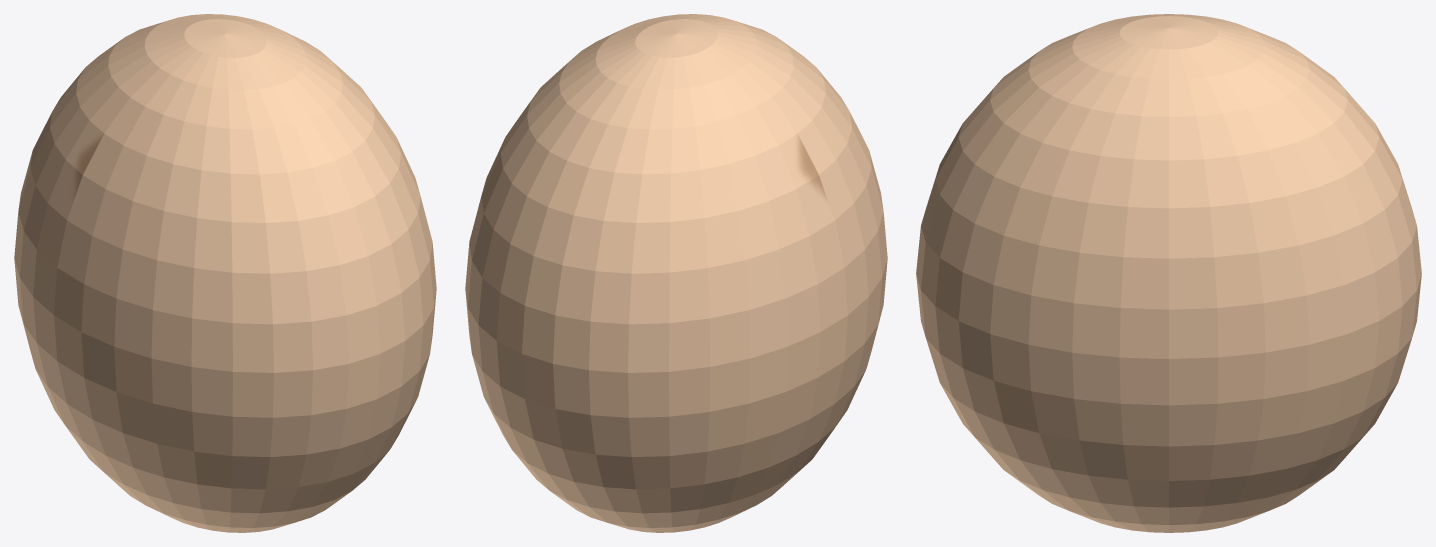
File: ManoDer_Arbitro.obj
3 views of the same model, side by side, from view 1: azimuth 30°, elevation 25°; view 2: azimuth 150°, elevation 25°; view 3: azimuth 270°, elevation 25° (orthographic). The views are drawn at different scales.
Visible parts, largest first — view 1: ManoDer_Arbitro; view 2: ManoDer_Arbitro; view 3: ManoDer_Arbitro.
Part boxes in pixels (bbox=[...]): ManoDer_Arbitro: bbox=[14, 14, 436, 532]; ManoDer_Arbitro: bbox=[465, 14, 887, 532]; ManoDer_Arbitro: bbox=[916, 14, 1421, 532].
Bounding box in the file's own units: 0.764 × 1.02 × 0.9529.
1 material, 1 textured.
